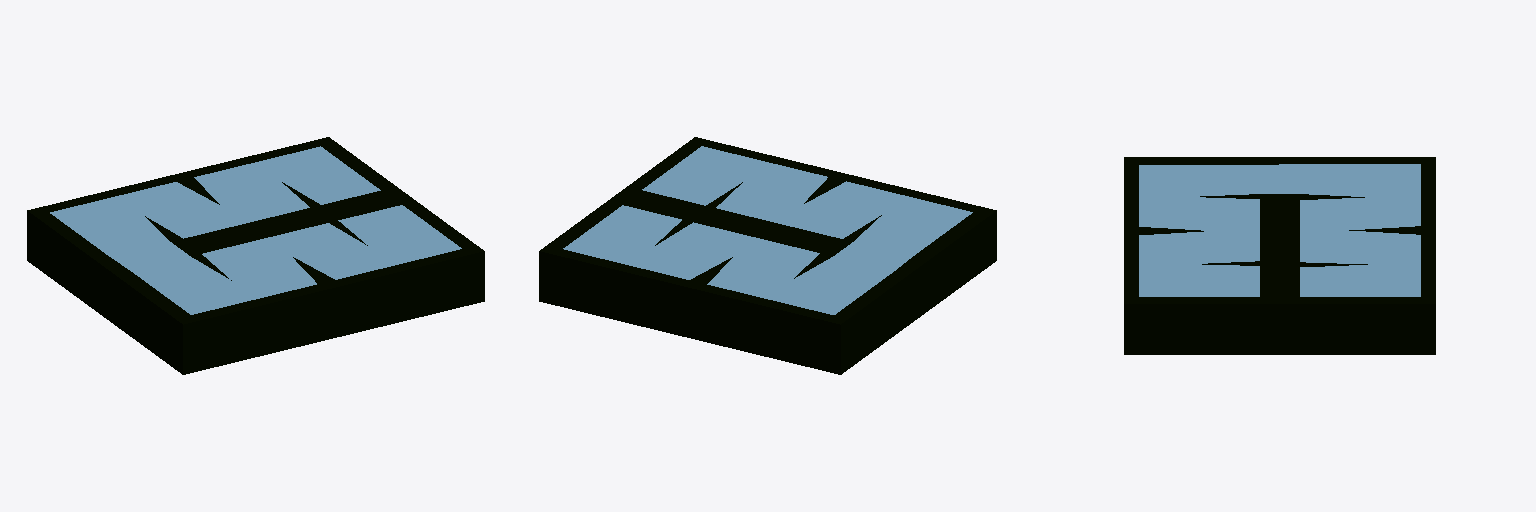
Rendered from CubeRTYStage2.obj.
3 views of the same model, side by side, from view 1: azimuth 30°, elevation 25°; view 2: azimuth 150°, elevation 25°; view 3: azimuth 270°, elevation 25° (orthographic).
Visible parts, largest first — view 1: Stage2_Plane.002; view 2: Stage2_Plane.002; view 3: Stage2_Plane.002.
Part boxes in pixels (bbox=[...]): Stage2_Plane.002: bbox=[27, 137, 484, 374]; Stage2_Plane.002: bbox=[539, 137, 996, 374]; Stage2_Plane.002: bbox=[1124, 157, 1435, 354].
Size of the model in its own units: 20 by 3.2 by 17.92.